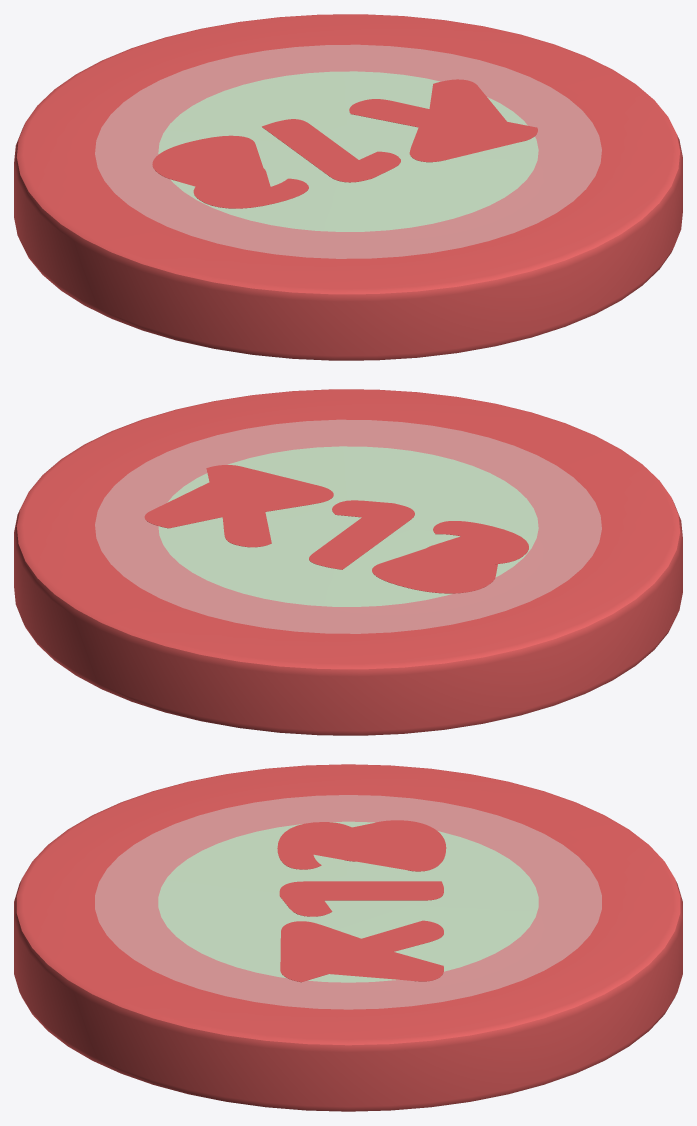
3 views of the same model, one above another, from view 1: azimuth 30°, elevation 25°; view 2: azimuth 150°, elevation 25°; view 3: azimuth 270°, elevation 25° (orthographic).
Visible parts, largest first — view 1: X13; view 2: X13; view 3: X13.
Part boxes in pixels (<box>): X13: <box>14,14,682,360</box>; X13: <box>14,389,682,735</box>; X13: <box>14,764,682,1111</box>.
Size of the model in its own units: 321 by 38.49 by 320.
